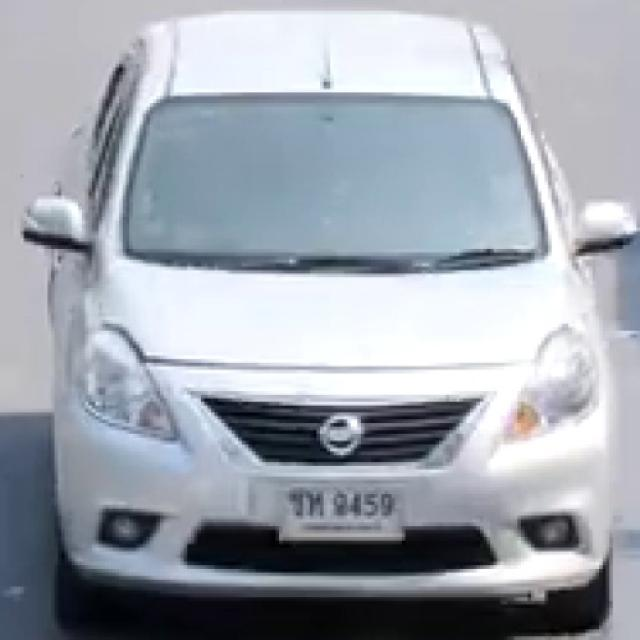plate: (282, 480, 405, 543)
